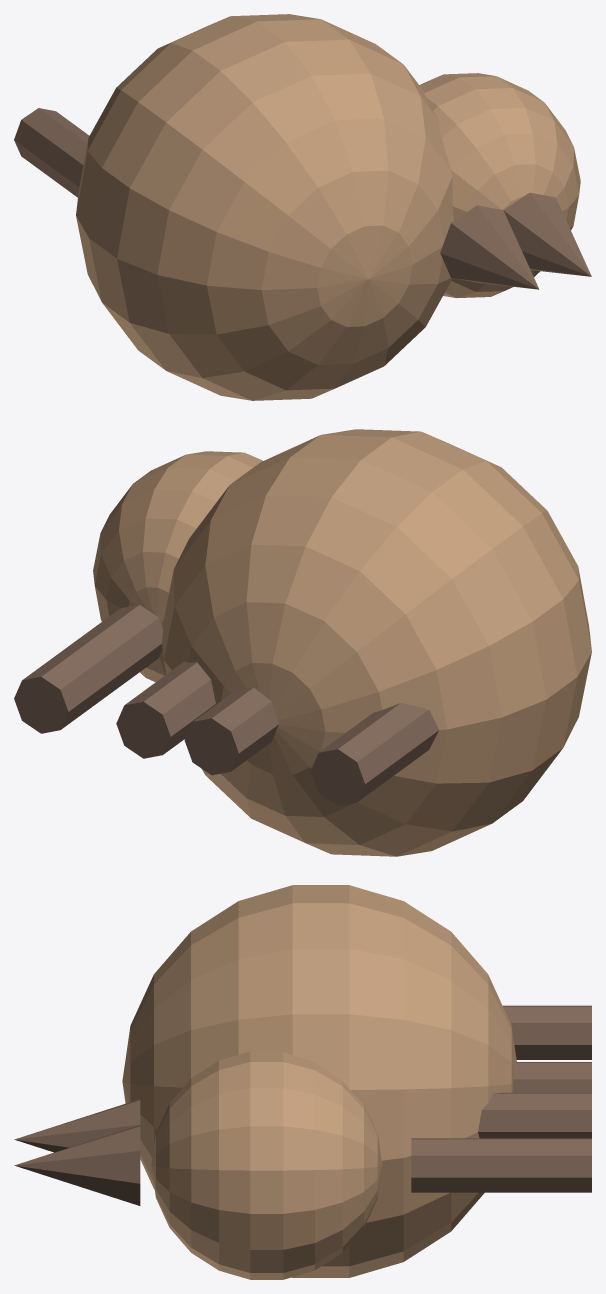
The model's file is Horse.glb.
3 views of the same model, one above another, from view 1: azimuth 30°, elevation 25°; view 2: azimuth 150°, elevation 25°; view 3: azimuth 270°, elevation 25° (orthographic). The views are drawn at different scales.
Visible parts, largest first — view 1: body, head, ear2, ear, leg1; view 2: body, head, leg4, leg1, leg3, leg2; view 3: body, head, leg4, ear, leg3, leg1, ear2, leg2.
Part boxes in pixels (<box>): body: <box>76,14,453,400</box>; head: <box>419,73,580,297</box>; ear2: <box>440,205,539,289</box>; ear: <box>503,192,591,276</box>; leg1: <box>14,108,89,197</box>; body: <box>162,429,591,856</box>; head: <box>93,451,262,682</box>; leg4: <box>14,604,162,733</box>; leg1: <box>310,703,438,805</box>; leg3: <box>116,661,215,758</box>; leg2: <box>184,687,278,775</box>; body: <box>122,885,516,1277</box>; head: <box>151,1051,382,1279</box>; leg4: <box>411,1138,591,1192</box>; ear: <box>14,1125,140,1205</box>; leg3: <box>478,1092,591,1138</box>; leg1: <box>503,1005,591,1059</box>; ear2: <box>14,1099,140,1152</box>; leg2: <box>513,1062,591,1092</box>.
Bounding box in the file's own units: 1.69 × 1.31 × 1.92.
